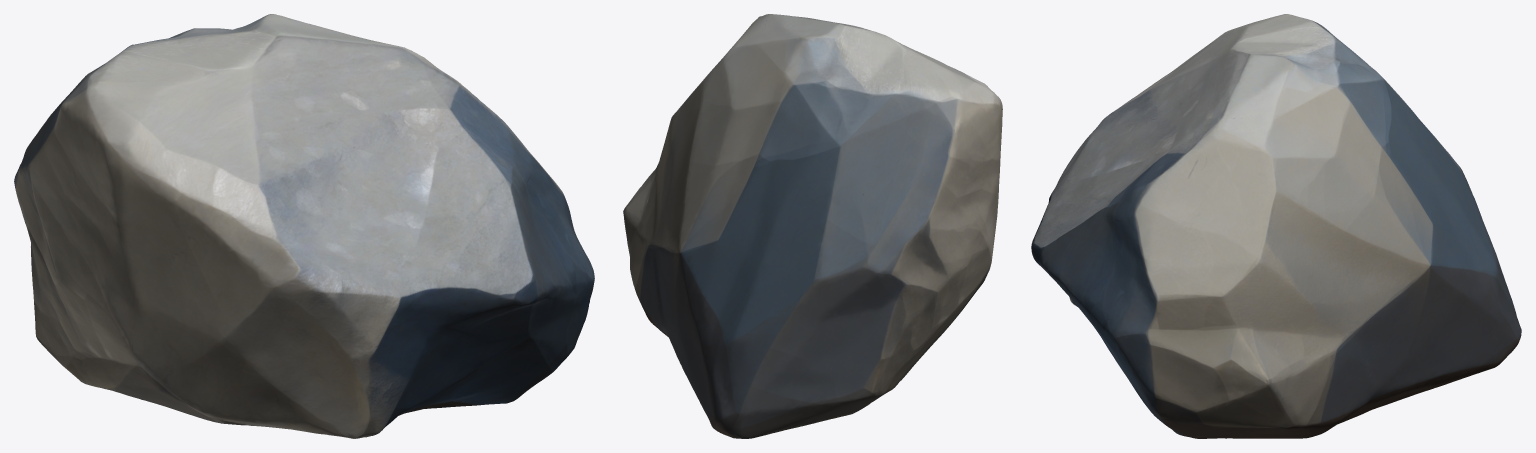
Rendered from AI_LowPolyRock.fbx.
3 renders of one model, left to right at view 1: azimuth 30°, elevation 25°; view 2: azimuth 150°, elevation 25°; view 3: azimuth 270°, elevation 25°, orthographic. The views are drawn at different scales.
Parts seen in each view (by area): view 1: Mesh1; view 2: Mesh1; view 3: Mesh1.
Part boxes in pixels (x1,y1,x2,y2): Mesh1: (14,14,594,438); Mesh1: (623,14,1002,438); Mesh1: (1031,14,1521,438).
Bounding box in the file's own units: 166 × 149 × 200.
1 material, 1 textured.
